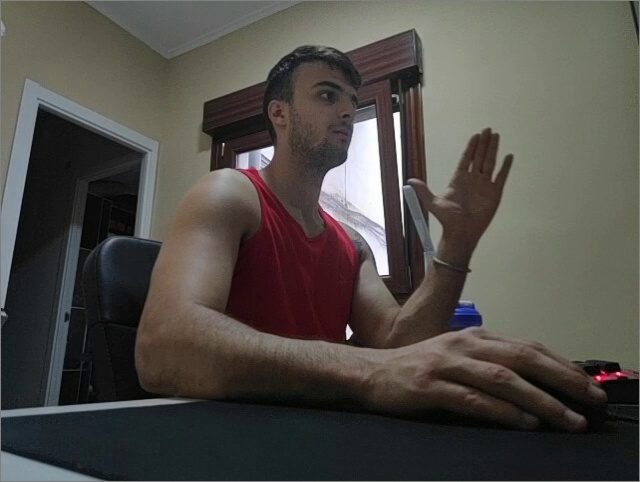Palm: (407, 126, 516, 237)
